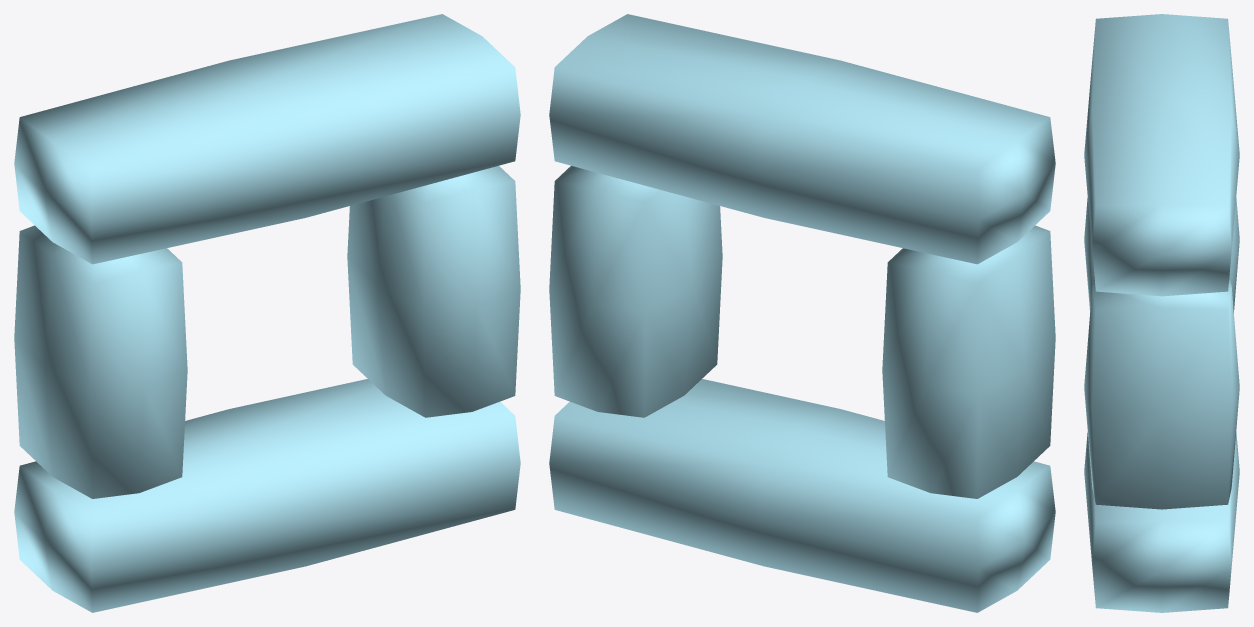
File: StruggleOrbFrame.glb
3 renders of one model, left to right at view 1: azimuth 30°, elevation 25°; view 2: azimuth 150°, elevation 25°; view 3: azimuth 270°, elevation 25°, orthographic. The views are drawn at different scales.
Parts seen in each view (by area): view 1: Orb; view 2: Orb; view 3: Orb.
Part boxes in pixels (left/top/right/bottom): Orb: left=14, top=14, right=520, bottom=612; Orb: left=549, top=14, right=1055, bottom=612; Orb: left=1084, top=14, right=1239, bottom=612.
Bounding box in the file's own units: 1.35 × 1.35 × 0.45.
